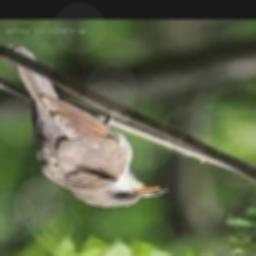Cuckoo: (10, 43, 167, 207)
